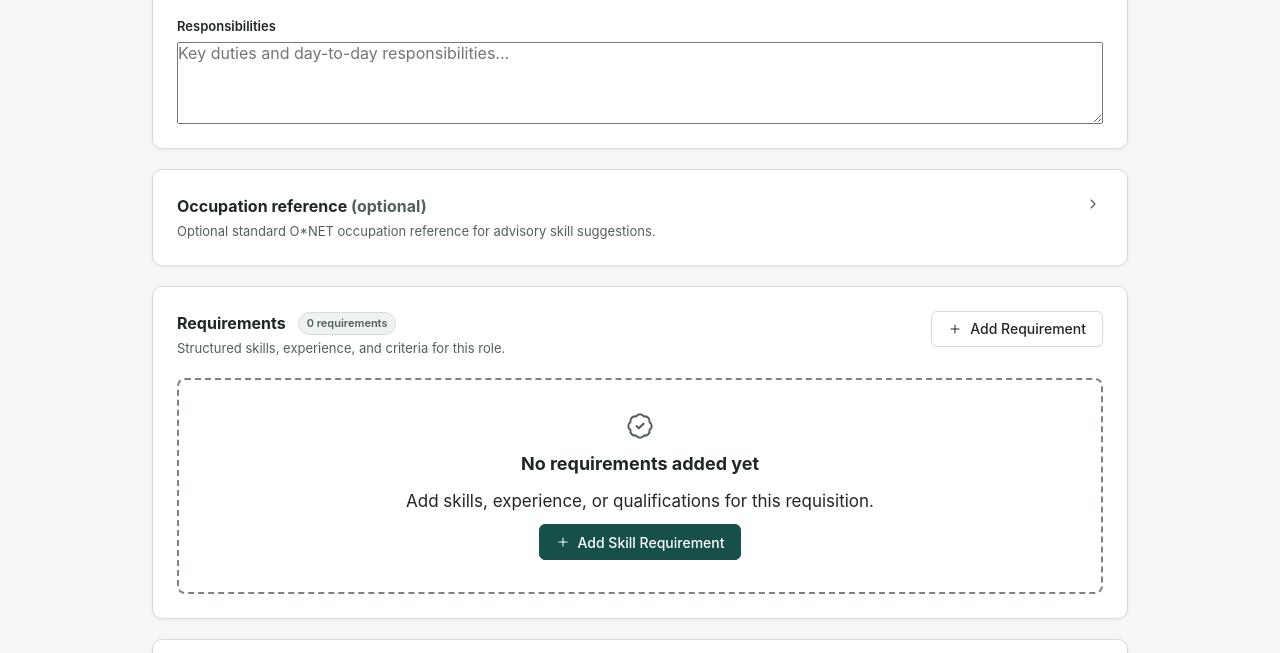
Test case: Phase 2B.3: Jobs Workspace & Requirement Builder › Phase 2D.4 UI Refinements: Candidate Comparison and Streamlined Requirements › does not render job description import button and supports manual creation defaults
(page scrolled)
# Add requirement: opens expanded card with PREFERRED necessity and MEDIUM priority defaults
Click the button "Add Requirement".
click(1017, 329)  # box left=931, top=311, right=1103, bottom=347
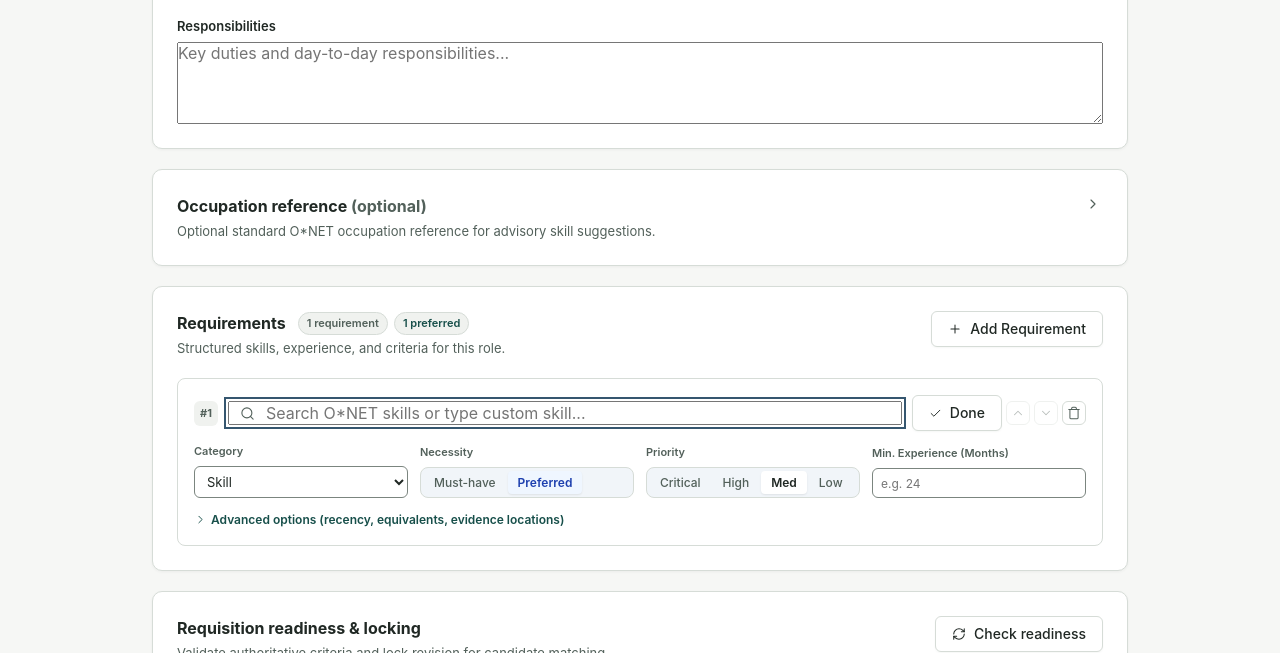
# Switching to Must-have reveals immediate mandatory rationale input
Click the button "Must-have".
click(465, 483)  # box left=424, top=471, right=506, bottom=494
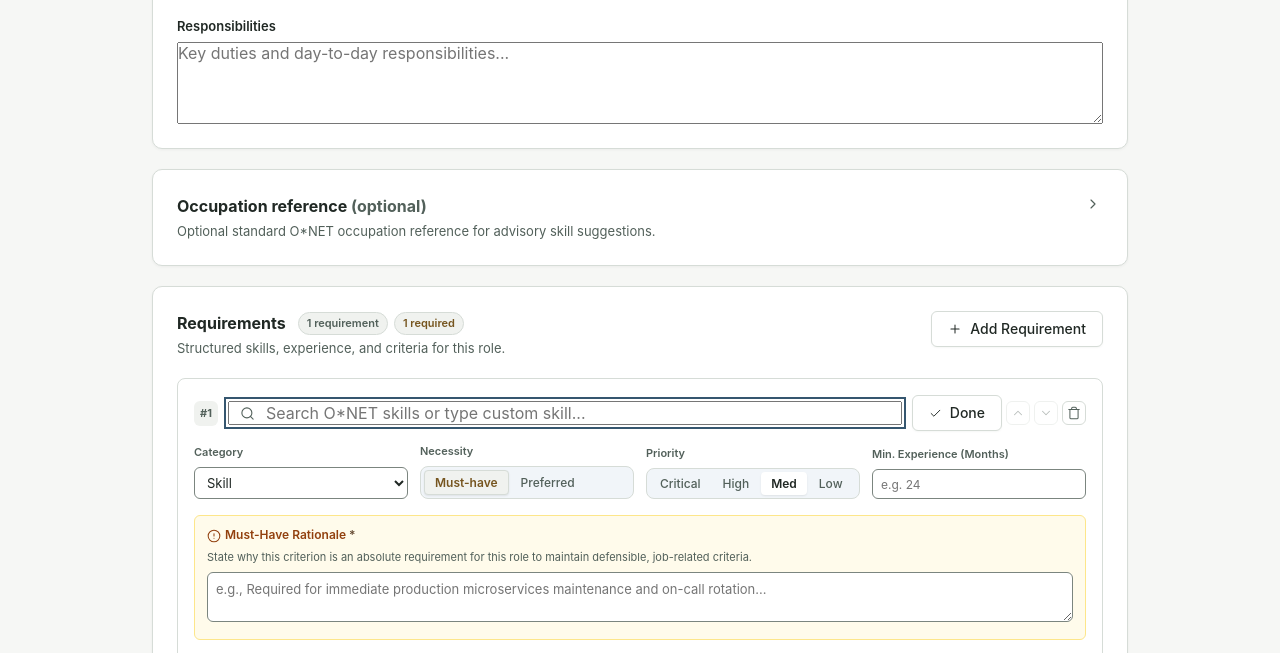
Expected: the text box labelled "Must-Have Rationale *" is shown, left=207, top=572, right=1073, bottom=622
# Collapse card by clicking Done
Click the button with aria-label "Done editing requirement #1".
click(957, 413)  # box left=912, top=395, right=1002, bottom=431
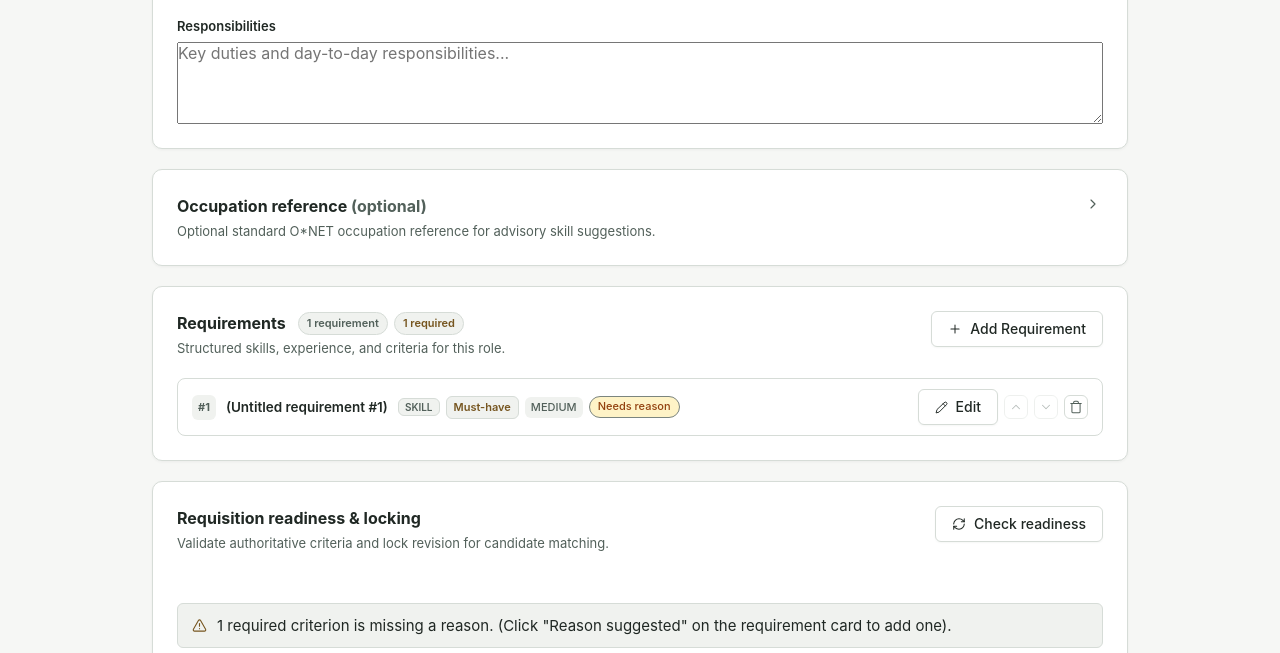
Expected: the button with aria-label "Edit requirement #1" is shown, left=918, top=389, right=998, bottom=425
